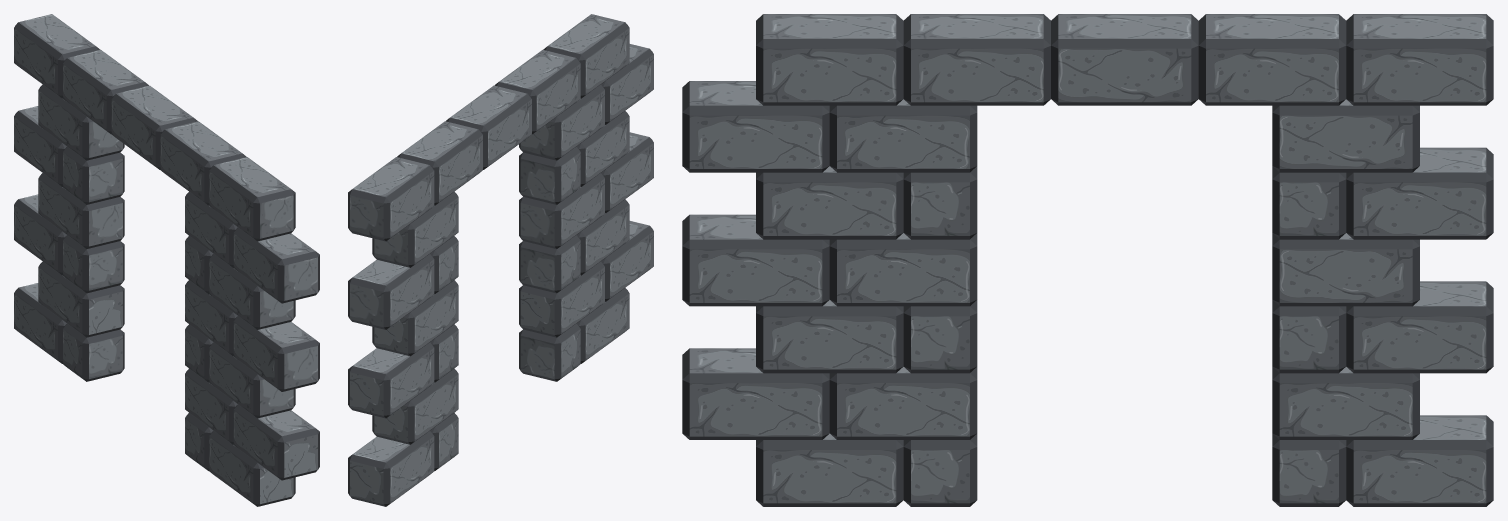
Rendered from M_Arco.fbx.
3 views of the same model, side by side, from view 1: azimuth 30°, elevation 25°; view 2: azimuth 150°, elevation 25°; view 3: azimuth 270°, elevation 25° (orthographic). The views are drawn at different scales.
Visible parts, largest first — view 1: Arco; view 2: Arco; view 3: Arco.
Part boxes in pixels (x1=…): Arco: x1=14, y1=14, x2=319, y2=506; Arco: x1=348, y1=14, x2=653, y2=506; Arco: x1=682, y1=14, x2=1493, y2=506.
Size of the model in its own units: 1 by 7 by 11.
